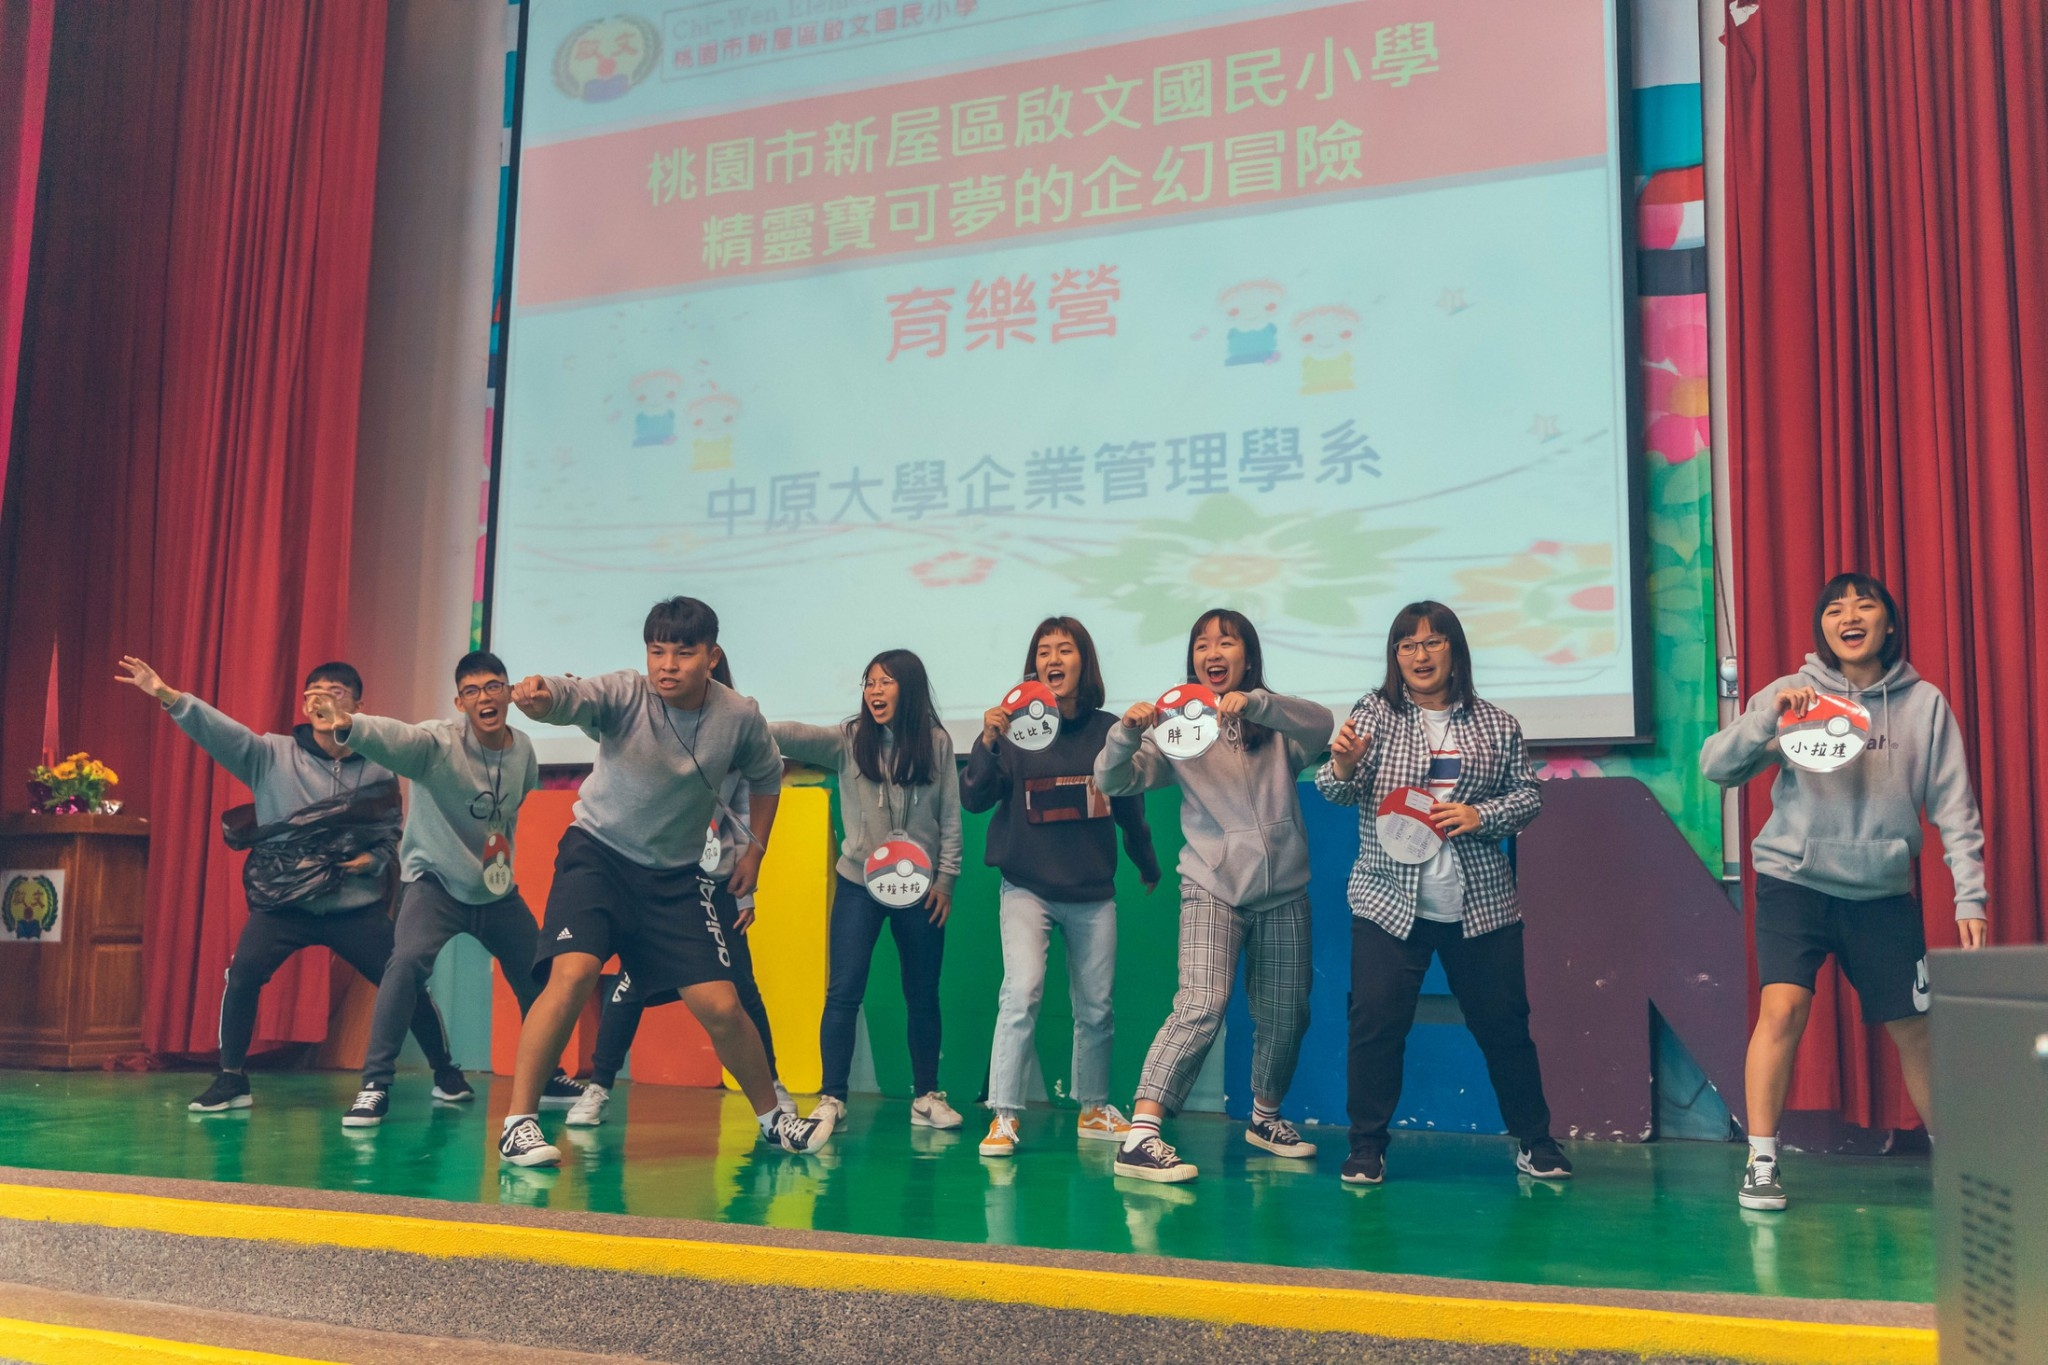people: (1352, 589, 1572, 1183), (1763, 572, 1963, 1183), (587, 607, 787, 1139), (1149, 613, 1302, 1163), (413, 648, 563, 1110), (990, 624, 1125, 1139), (249, 657, 396, 1083), (828, 651, 954, 1124)
